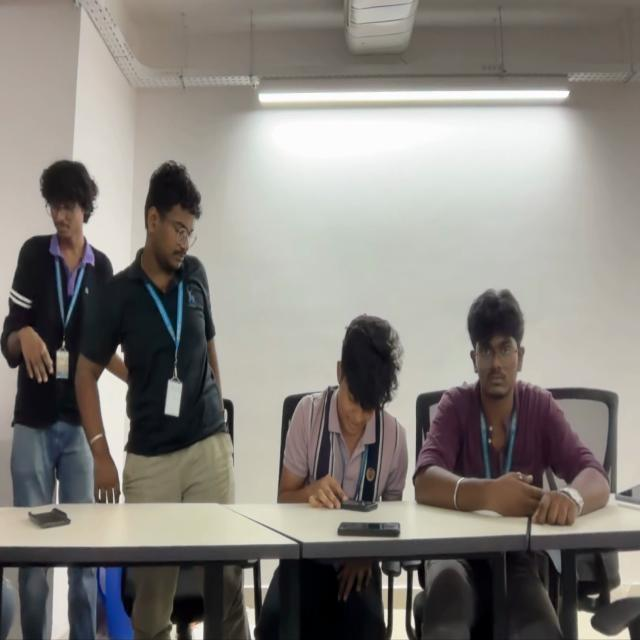Isolated: (420, 291, 621, 510), (280, 312, 407, 501)
socializing: (0, 155, 241, 505)
